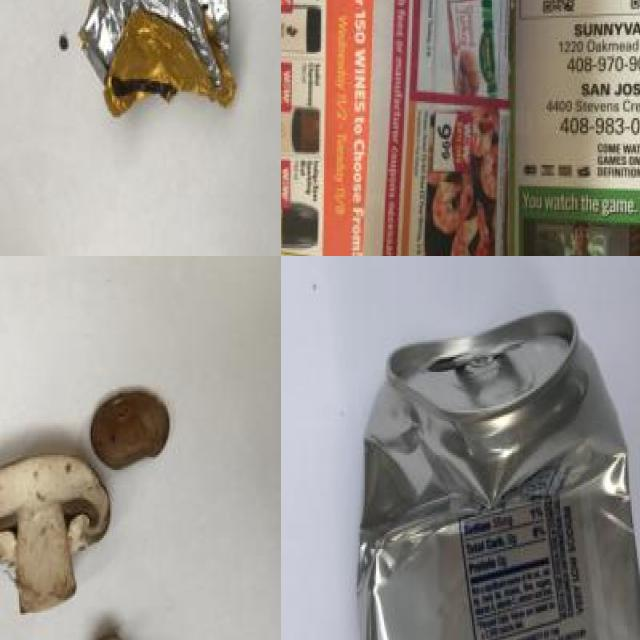compost: (0, 365, 269, 640)
paper: (281, 0, 640, 256)
plastic: (348, 334, 640, 640)
trash: (58, 0, 262, 124)
